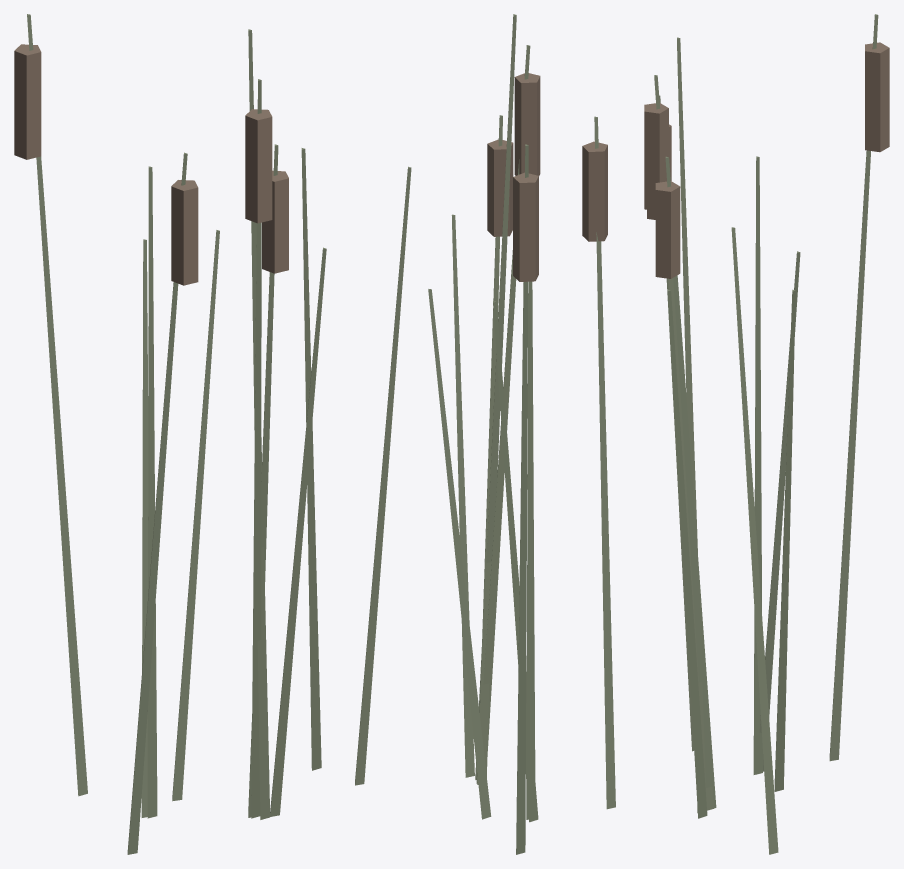
The model's file is reeds.gltf.
3 views of the same model, side by side, from view 1: azimuth 30°, elevation 25°; view 2: azimuth 150°, elevation 25°; view 3: azimuth 270°, elevation 25° (orthographic). The views are drawn at different scales.
Parts seen in each view (by area): view 1: Body; view 2: Body; view 3: Body.
Boxes of the visible parts, x1,y1,x2,y2 form: Body: (14,14,326,854); Body: (355,14,615,854); Body: (644,14,889,854).
Bounding box in the file's own units: 0.7019 × 2.16 × 0.6313.
